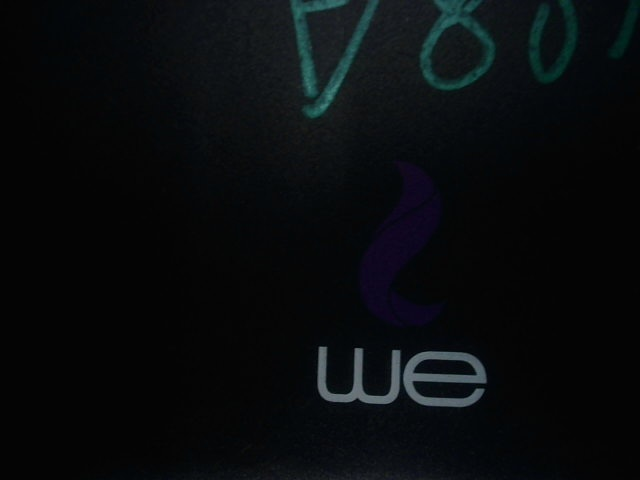AT_We: (291, 159, 498, 412)
